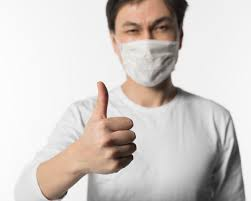masked: (99, 1, 192, 87)
